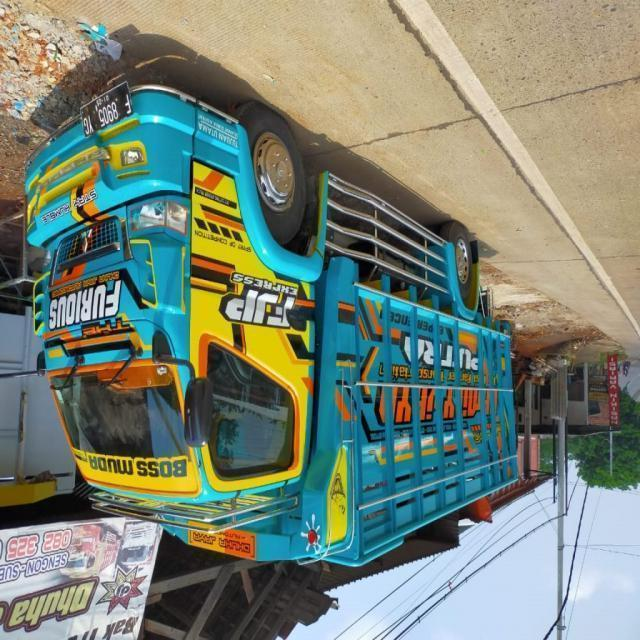truck: (26, 80, 518, 570)
